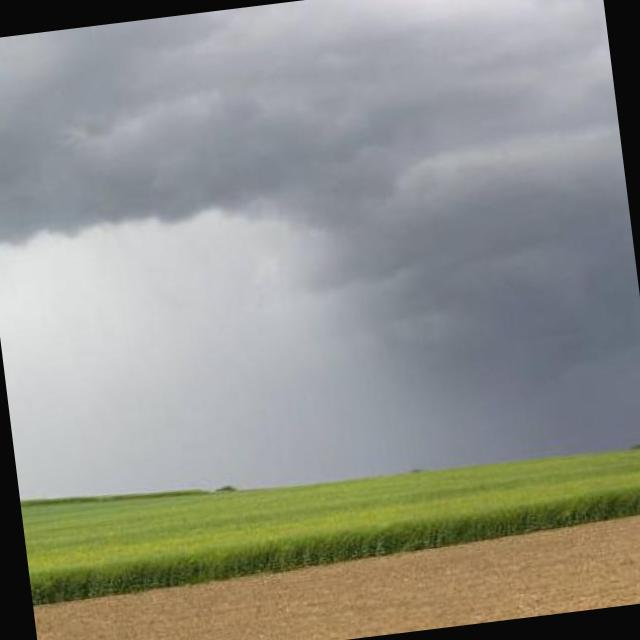nimbostratus: (0, 0, 625, 262), (290, 126, 640, 459)
